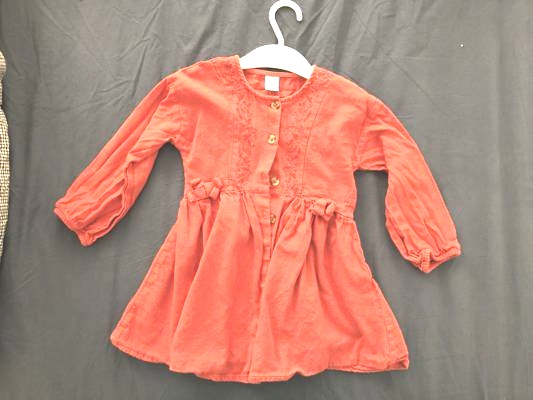Dress: (29, 28, 450, 391)
